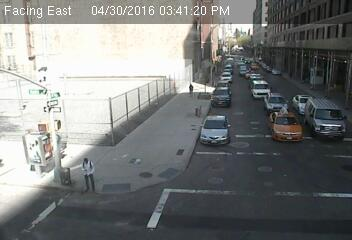pos: (73, 155, 102, 194), (184, 82, 197, 99)
